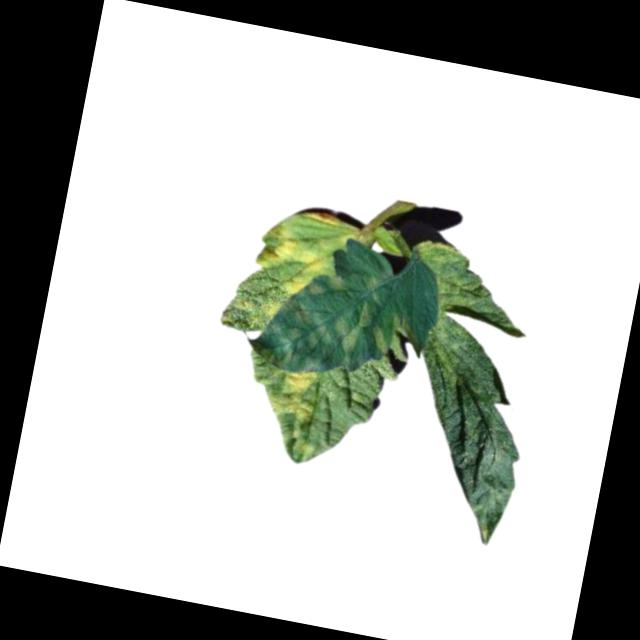Leaf_Mold: (245, 260, 385, 385), (248, 217, 337, 305), (261, 366, 325, 449), (299, 207, 343, 233)
